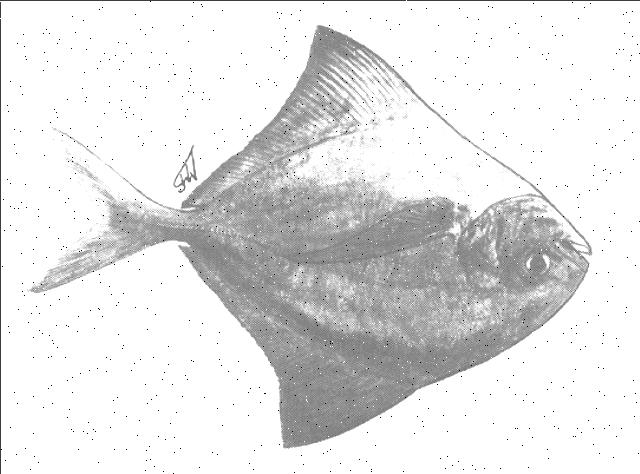Mulut: (540, 214, 614, 296)
Sirip Anal: (171, 130, 323, 216)
Sirip Dada: (261, 184, 491, 272)
Sirip Ekor: (20, 116, 166, 306)
Sirip Perut: (263, 17, 453, 135)
Sirip Punggung: (169, 236, 427, 459)
